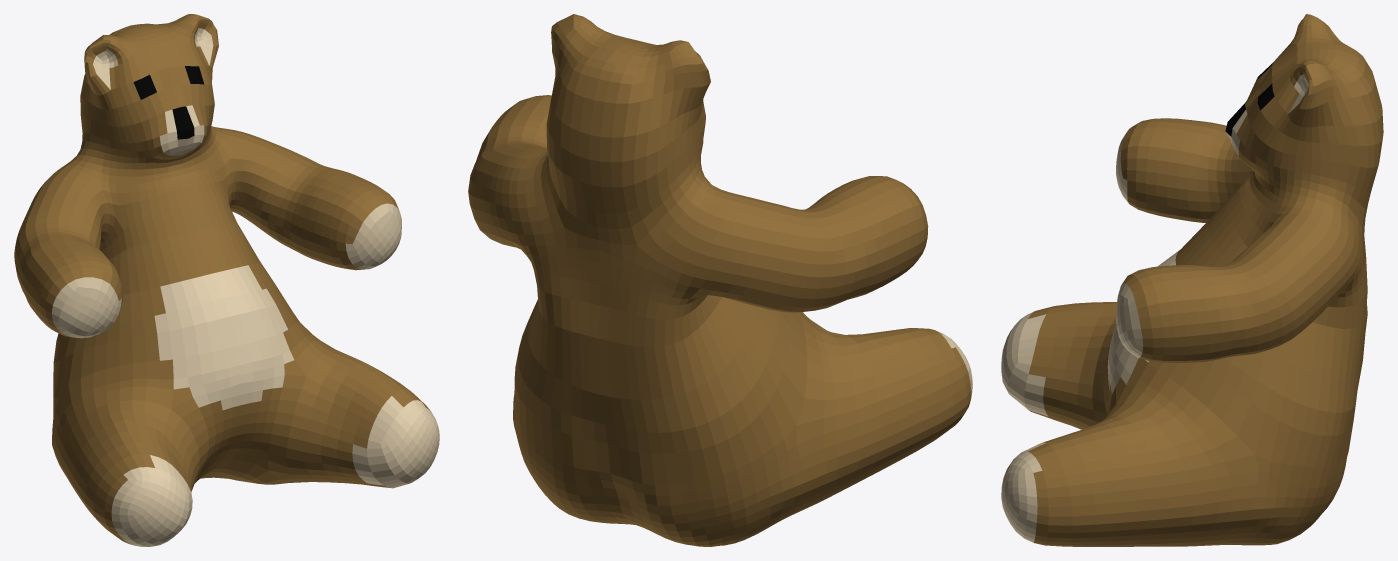
The model's file is teddyBear.fbx.
The picture shows the model from 3 angles, left to right: view 1: azimuth 30°, elevation 25°; view 2: azimuth 150°, elevation 25°; view 3: azimuth 270°, elevation 25°; orthographic projection. The views are drawn at different scales.
Visible parts, largest first — view 1: teddyBear, lightPartsBear, bearDetails; view 2: teddyBear; view 3: teddyBear, lightPartsBear, bearDetails.
Boxes of the visible parts, left/top/right/bottom form: teddyBear: left=14, top=14, right=431, bottom=545; lightPartsBear: left=51, top=27, right=439, bottom=546; bearDetails: left=133, top=66, right=204, bottom=139; teddyBear: left=468, top=14, right=971, bottom=546; teddyBear: left=1028, top=14, right=1383, bottom=546; lightPartsBear: left=1001, top=74, right=1308, bottom=542; bearDetails: left=1225, top=63, right=1274, bottom=136.
Bounding box in the file's own units: 24.64 × 28.89 × 21.15.
